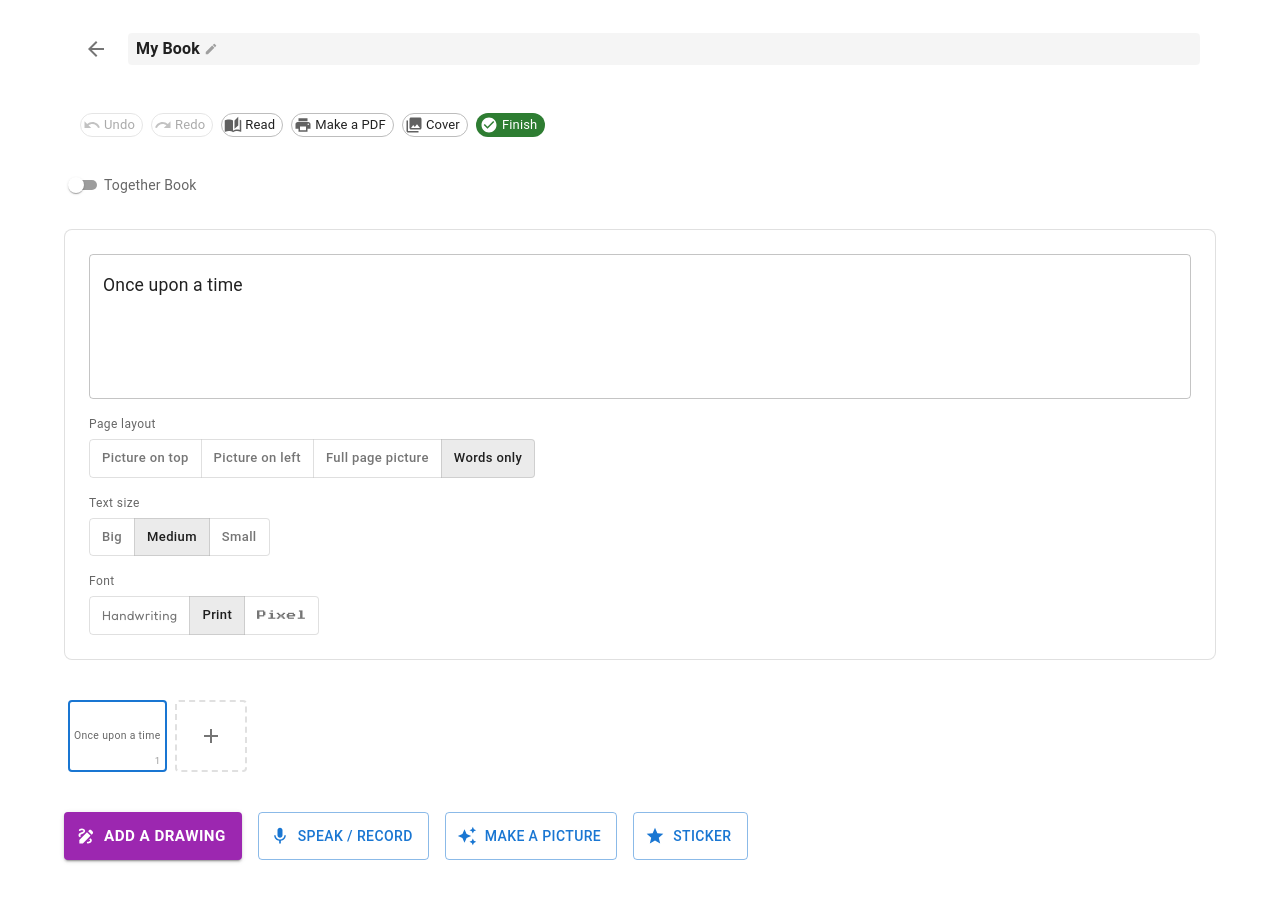
Test: BookEditorPage — weekly art budget (FEAT-168) › at the cap the picture generator has no Make button and shows the warm nudge
(page scrolled)
Click the button "Make a picture". click: (531, 836)
box: [445,812,617,860]
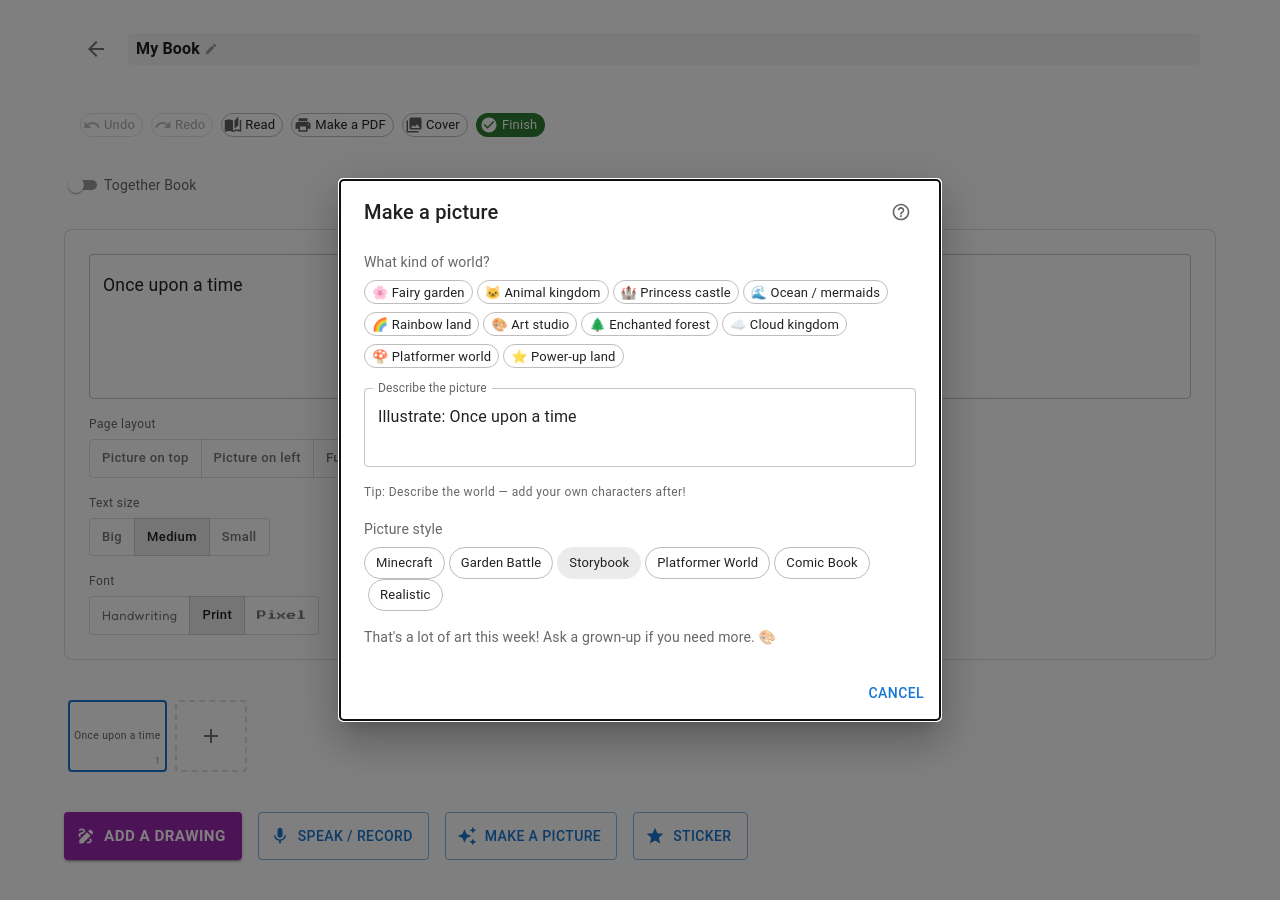
Check: the text "That's a lot of art this week! Ask a grown-up if you need more. 🎨" is shown, box [364,629,776,645]
